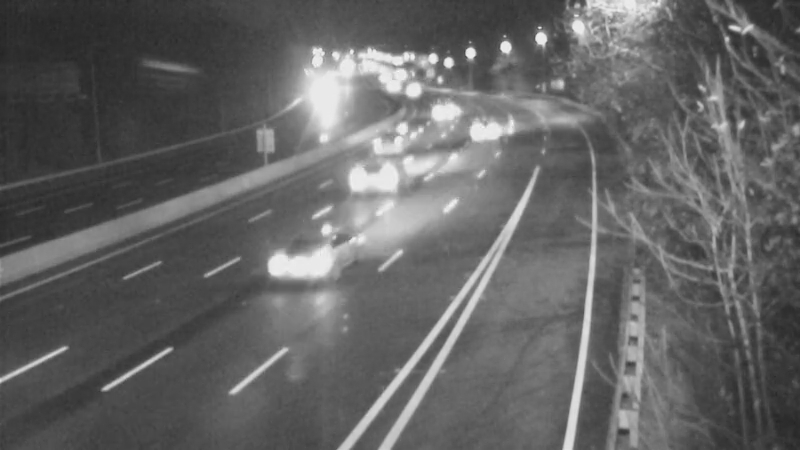vehicle: (337, 139, 417, 219), (265, 221, 345, 301), (371, 60, 421, 110), (390, 65, 440, 115), (415, 86, 465, 136), (458, 106, 508, 156), (350, 121, 400, 171), (293, 74, 343, 124)
